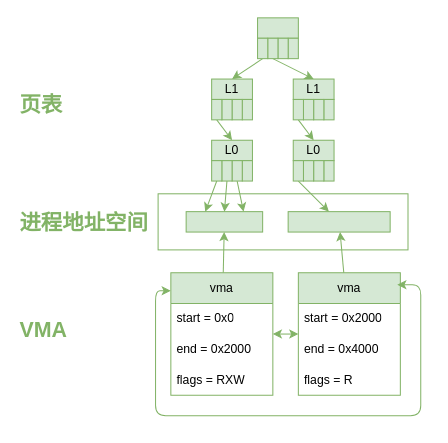
Some shapes in this 448 by 443 pixel diagram are drawn without their labels. The centre of each missing label's shape, as x and y in pixels:
"0x0-0x2000" belongs at point (224, 221).
"0x2000-0x4000" belongs at point (338, 221).
"L2" belongs at point (277, 27).
